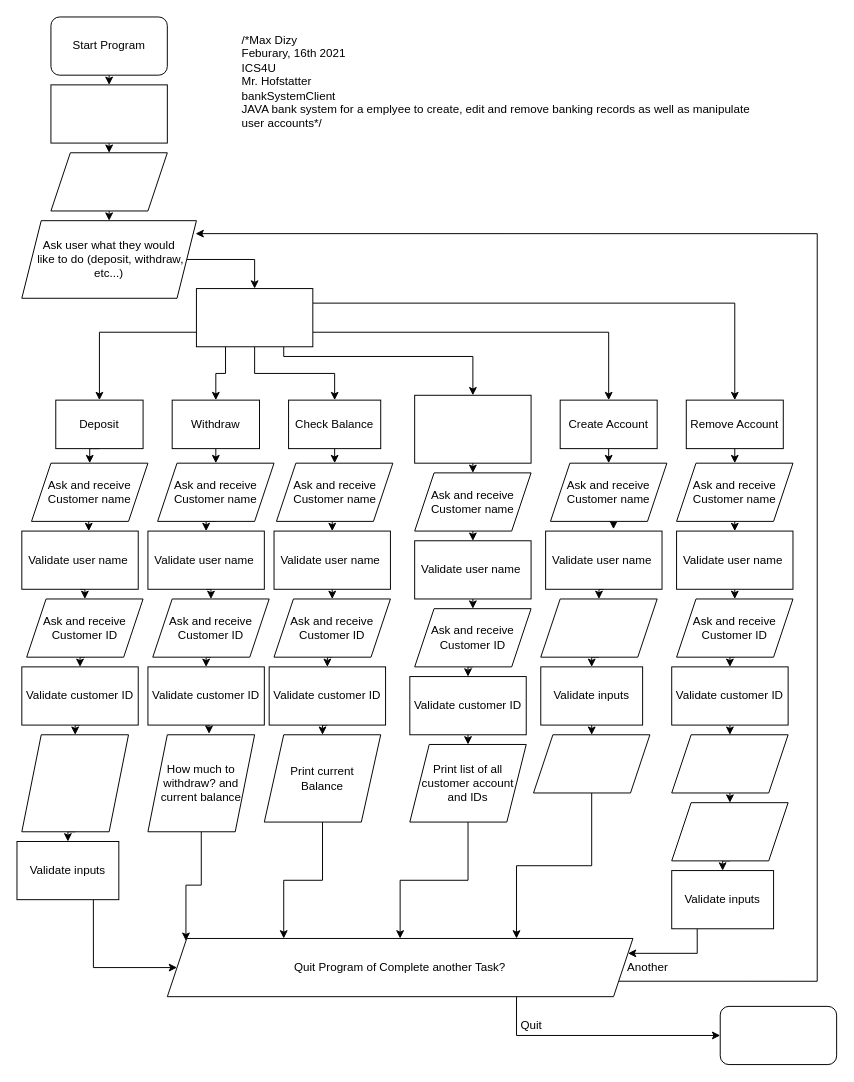
Image size: 854x1082. Some labels were removed from this diagram. The box of each missing label's shape, as (x1, y1, x2, y2) in pixels:
Are you sure?: (671, 734, 788, 793)
Ask for opening Balance: (540, 598, 657, 657)
Assign user ID: (533, 734, 650, 793)
Begin Graphics and Welcome page: (50, 84, 167, 143)
End Program: (719, 1005, 837, 1065)
Get confirmation: (671, 802, 788, 861)
How much to deposite? and current balance: (21, 734, 129, 832)
Print Task options: (50, 152, 167, 211)
Report all customer accounts: (414, 394, 531, 463)
Validate user task input: (195, 288, 313, 347)
